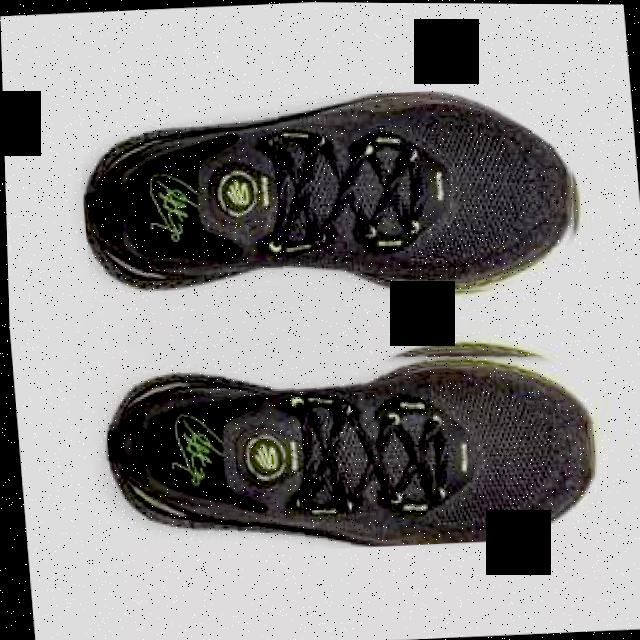shoe: (74, 81, 586, 314), (97, 331, 602, 561)
